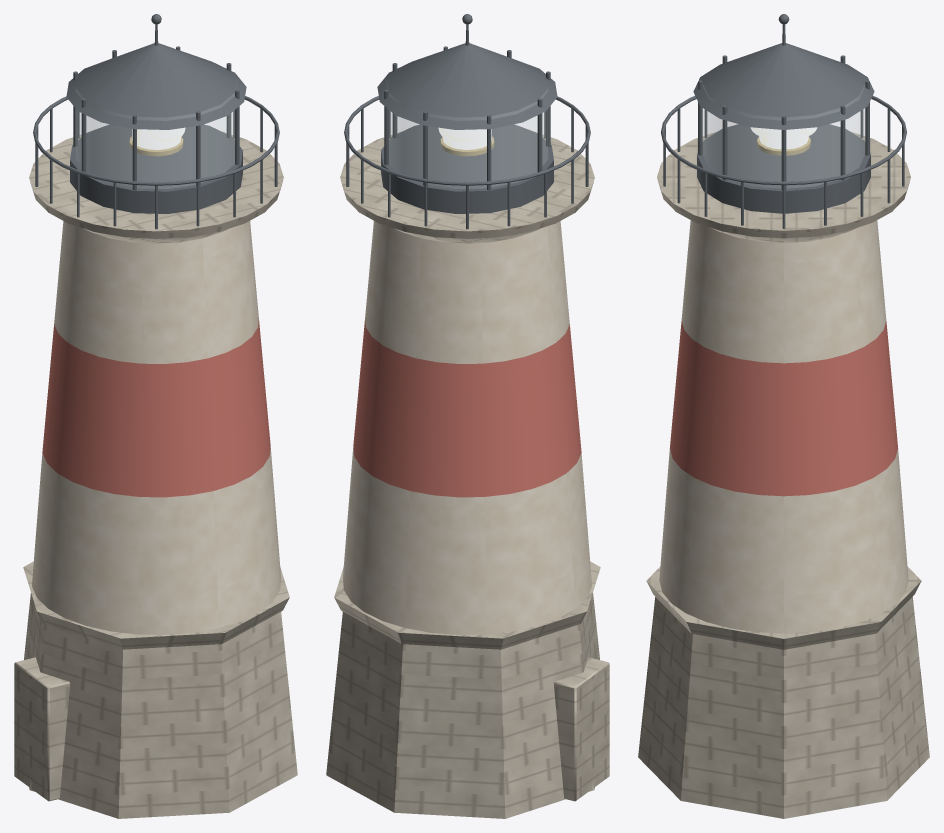
The model's file is coastal_lighthouse.glb.
3 renders of one model, left to right at view 1: azimuth 30°, elevation 25°; view 2: azimuth 150°, elevation 25°; view 3: azimuth 270°, elevation 25°, orthographic.
Visible parts, largest first — view 1: LH_Stonework, LH_WhiteBands, LH_CrimsonBand, LH_IronLantern, LH_LanternGlass, LH_FresnelOptic; view 2: LH_Stonework, LH_WhiteBands, LH_CrimsonBand, LH_IronLantern, LH_LanternGlass, LH_FresnelOptic; view 3: LH_Stonework, LH_WhiteBands, LH_CrimsonBand, LH_IronLantern, LH_LanternGlass, LH_FresnelOptic.
Boxes of the visible parts, <box> form: LH_Stonework: <box>14,131,297,818</box>; LH_WhiteBands: <box>32,221,281,634</box>; LH_CrimsonBand: <box>42,318,270,497</box>; LH_IronLantern: <box>33,14,279,229</box>; LH_LanternGlass: <box>76,84,236,188</box>; LH_FresnelOptic: <box>132,127,185,149</box>; LH_Stonework: <box>326,131,609,818</box>; LH_WhiteBands: <box>342,221,591,634</box>; LH_CrimsonBand: <box>353,318,581,497</box>; LH_IronLantern: <box>344,14,590,229</box>; LH_LanternGlass: <box>387,84,547,188</box>; LH_FresnelOptic: <box>438,127,491,149</box>; LH_Stonework: <box>638,131,929,818</box>; LH_WhiteBands: <box>659,220,908,633</box>; LH_CrimsonBand: <box>670,321,897,496</box>; LH_IronLantern: <box>661,14,906,228</box>; LH_LanternGlass: <box>703,85,864,188</box>; LH_FresnelOptic: <box>750,127,817,149</box>.
Size of the model in its own units: 4.96 by 13.93 by 4.96.
Materials: 8 (3 with a texture image).
